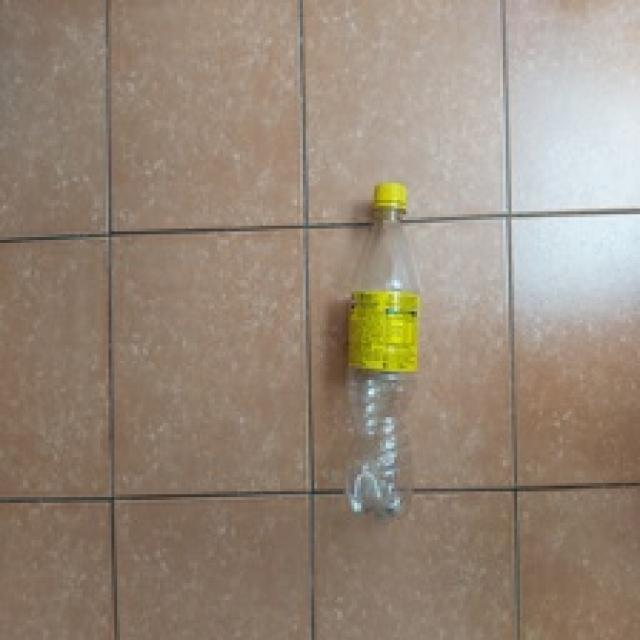Plastic: (340, 179, 417, 520)
